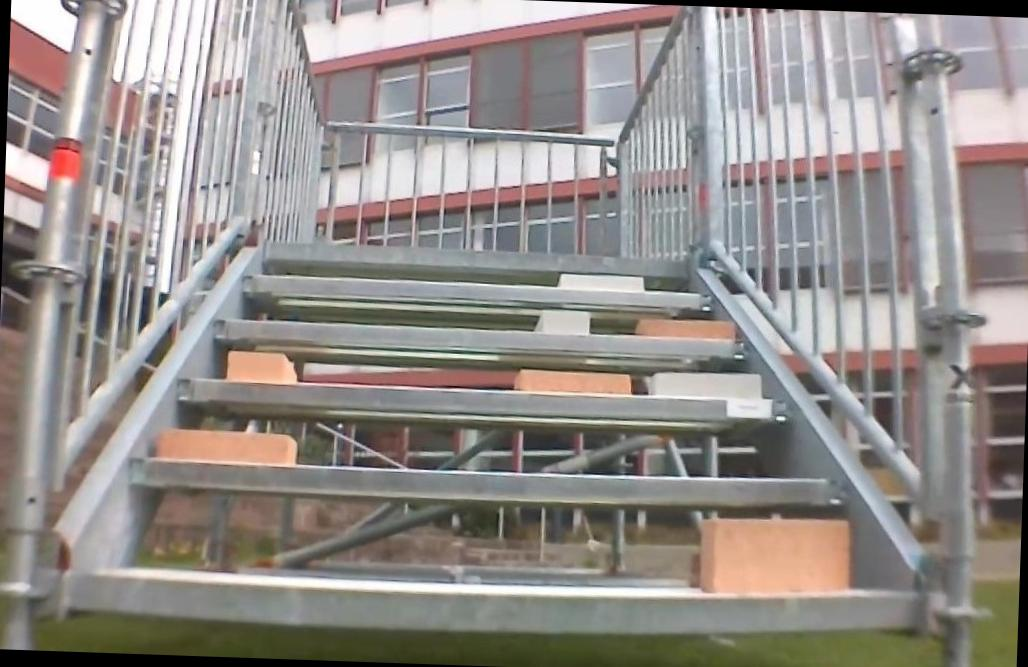brick: (698, 516, 850, 599), (156, 427, 295, 466), (646, 370, 758, 399), (513, 370, 628, 395), (634, 317, 735, 338), (227, 352, 294, 381), (555, 274, 644, 291), (534, 308, 589, 333)
edge: (69, 564, 921, 647), (132, 455, 845, 512), (175, 378, 790, 421), (209, 319, 747, 356), (239, 273, 709, 307), (262, 241, 686, 277)
steps: (62, 229, 936, 657)
